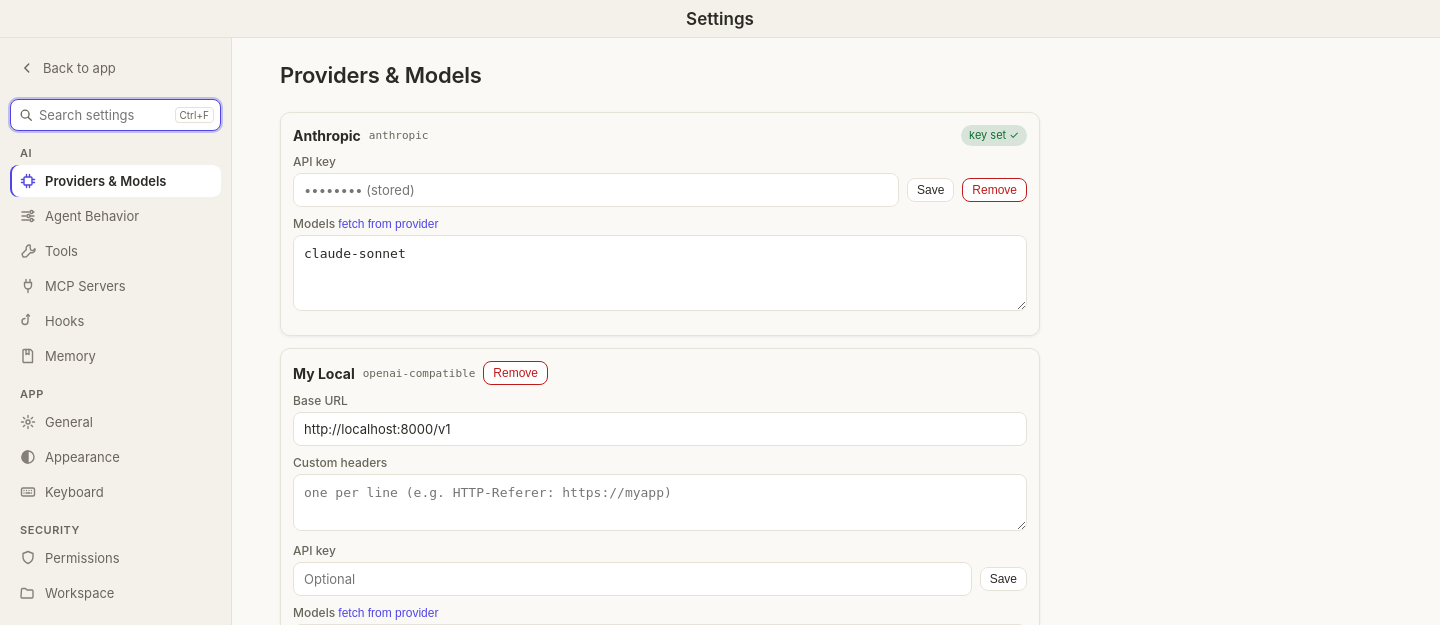
it: SettingsModal › shows the optional-integrations status and how to enable gh when missing
Click the button "Tools".
click(116, 251)  # box x1=10 y1=235 x2=221 y2=267
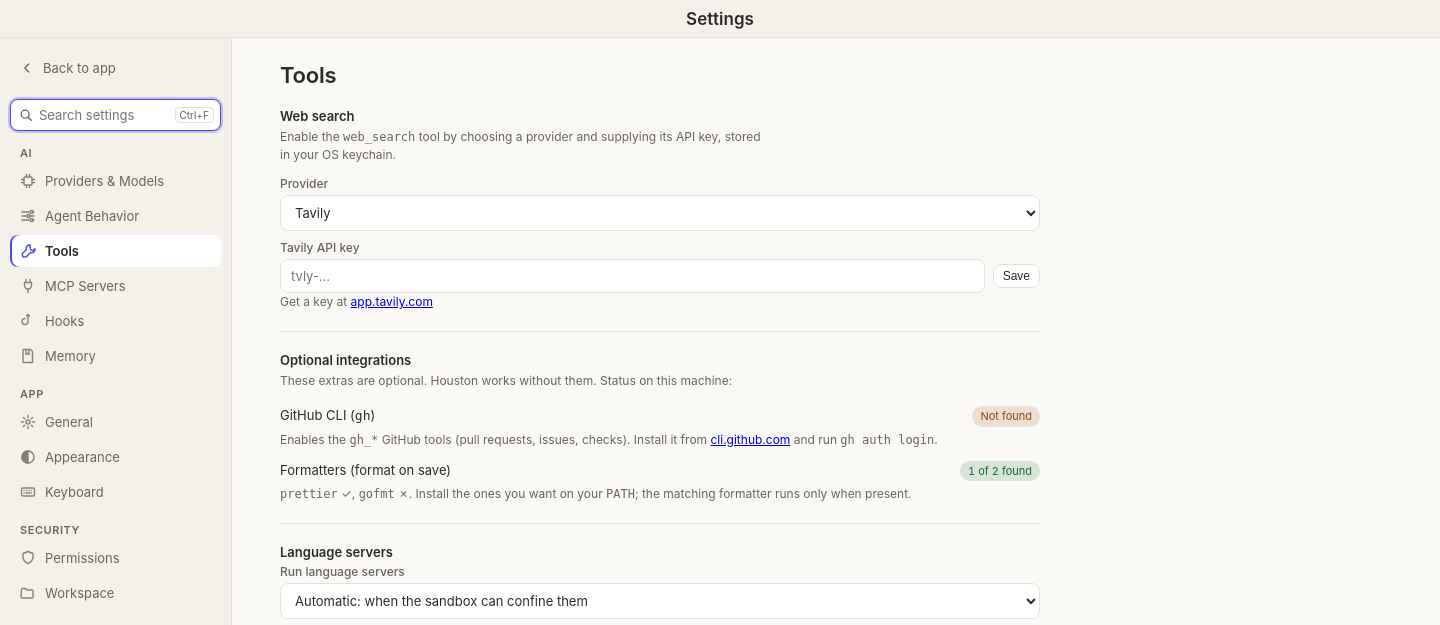
Now the heading "Optional integrations" is shown, box x1=280 y1=352 x2=411 y2=368
Now the text "Not found" is shown, box x1=972 y1=406 x2=1040 y2=426
Now the link "cli.github.com" is shown, box x1=710 y1=432 x2=790 y2=446
